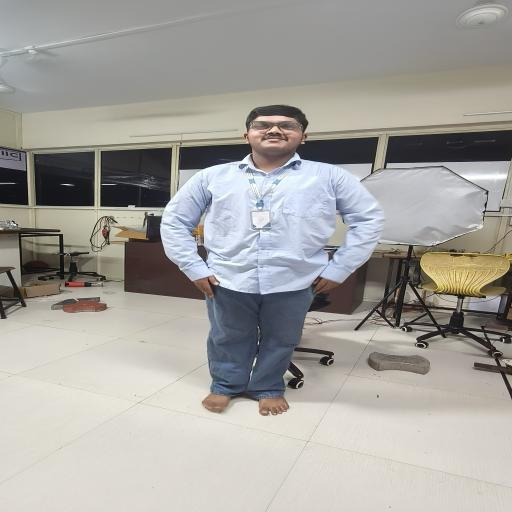survivor: (160, 104, 386, 416)
